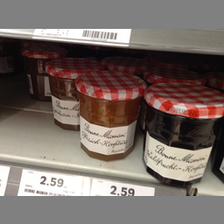jam: (144, 81, 224, 189), (76, 70, 147, 161), (46, 56, 95, 130)
